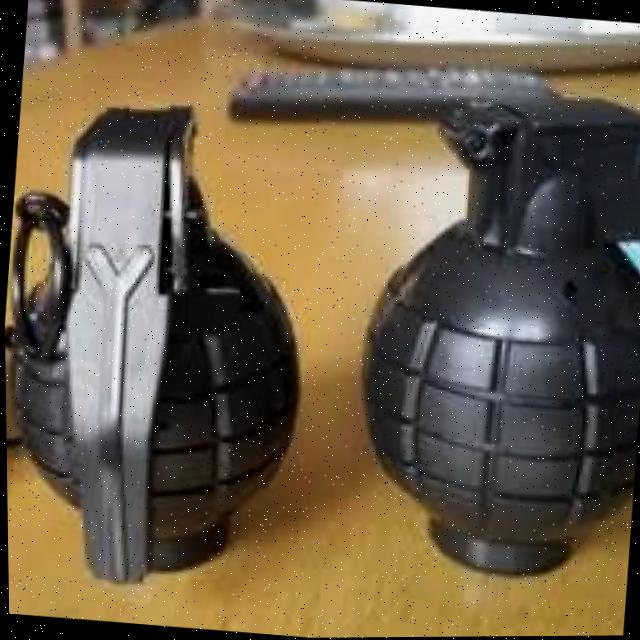grenade: (334, 85, 640, 578)
